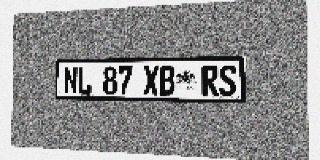7: (118, 66, 133, 95)
8: (103, 66, 117, 95)
B: (159, 66, 175, 95)
L: (78, 67, 92, 95)
N: (64, 67, 78, 94)
R: (202, 65, 218, 96)
S: (219, 65, 236, 96)
X: (143, 66, 159, 95)
